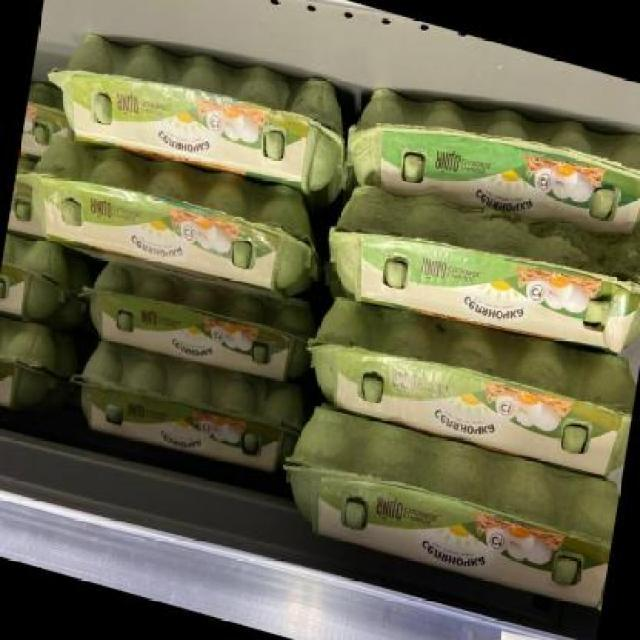Egg: (283, 398, 620, 612), (303, 281, 639, 493), (322, 166, 640, 380), (47, 9, 356, 221), (345, 56, 639, 277), (21, 121, 329, 323), (62, 329, 308, 495), (75, 251, 319, 400), (0, 223, 84, 342), (0, 308, 71, 426)
